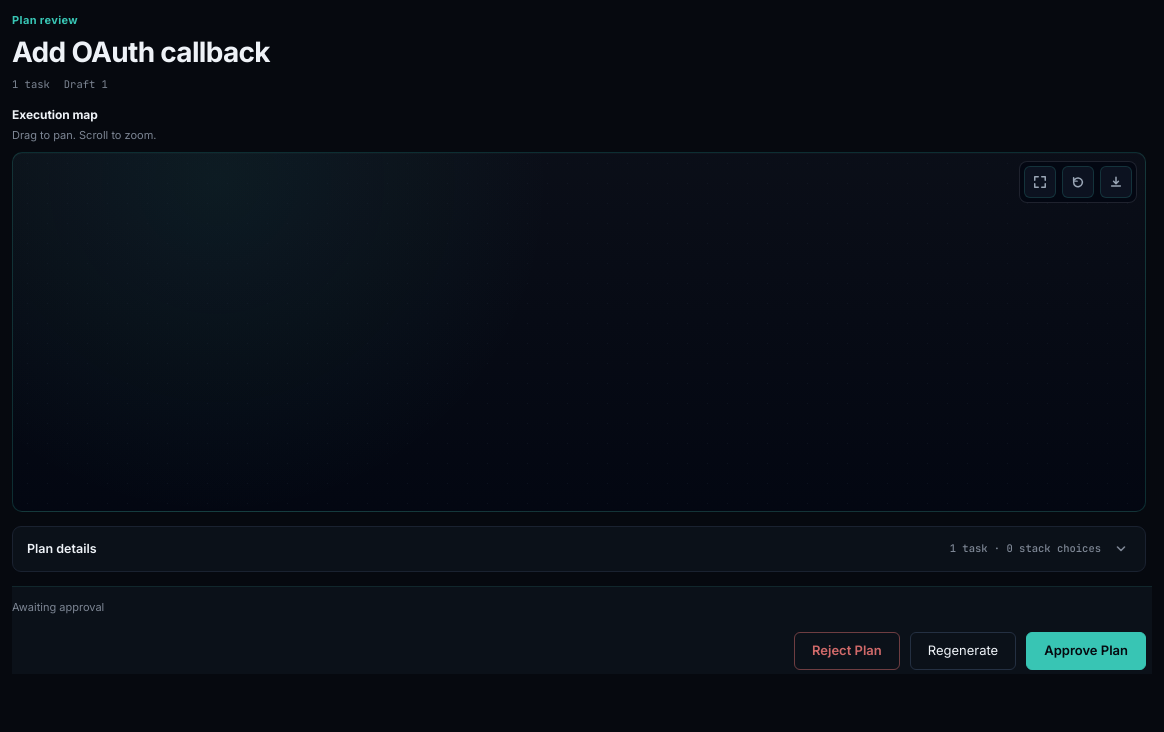
it: MissionPlanPreview QC-3 › opens the inline reject form when Reject Plan is clicked
What coordinates should you click on to do the following:
click the button "Reject Plan"
I would click on:
 (847, 651)
Its box is [794,632,900,670].
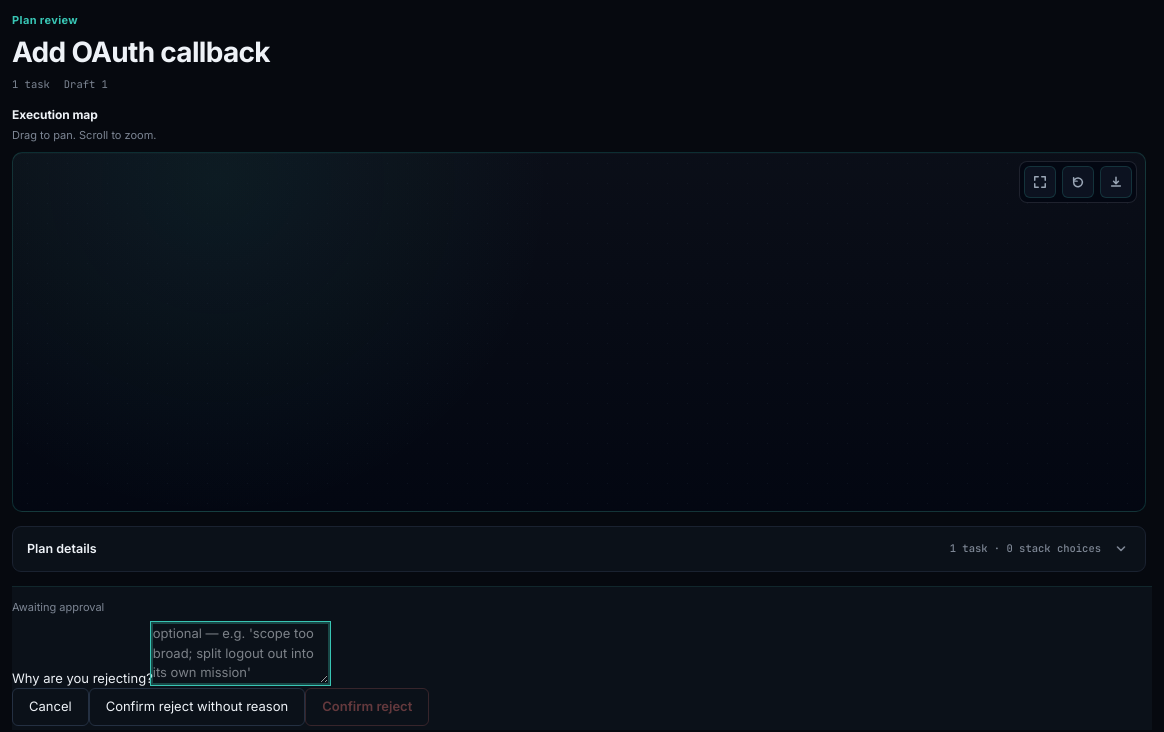
expect the text box named "reject reason" is shown: met, box [153,624,328,683]
